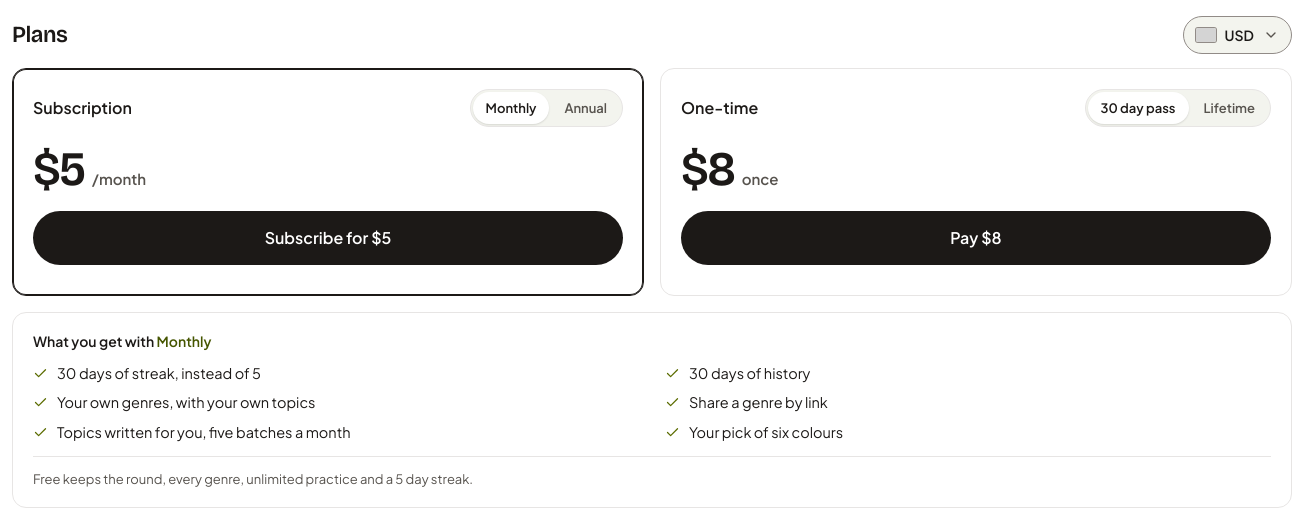
Test: the plans › changes the list when a longer plan is picked, and only the lines that differ
Click the radio button labelled "Lifetime" at coordinates (1229, 108), box [1190,92,1268,124]
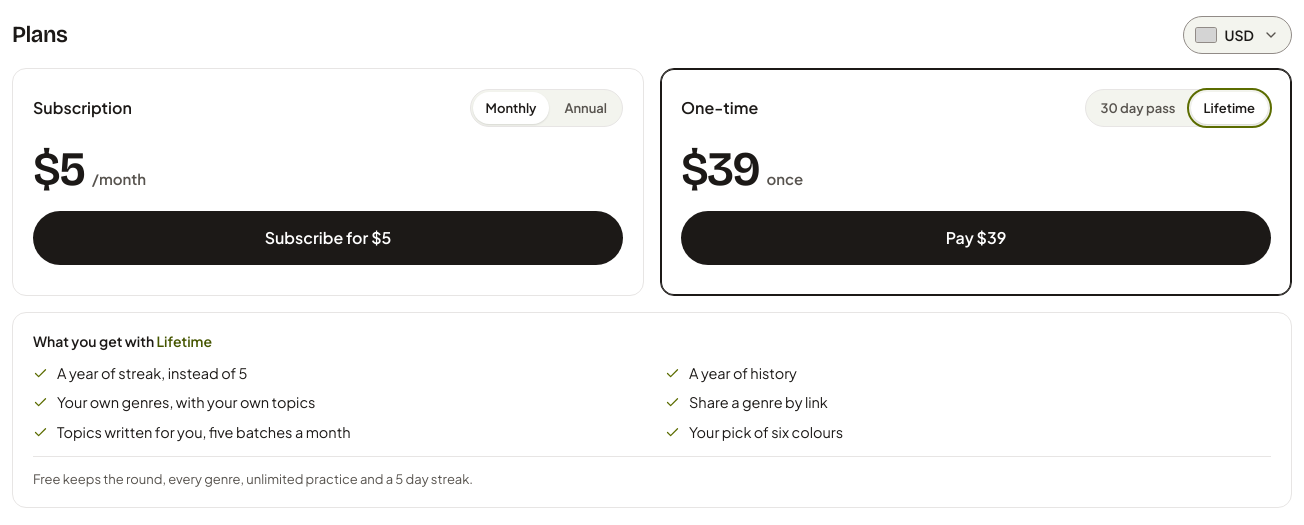
Expected: the list item "Your pick of six colours" is shown, [665,423,843,441]
Now the list item "A year of streak, instead of 5" is shown, box [33,364,248,382]
Now the list item "A year of history" is shown, box [665,364,797,382]
